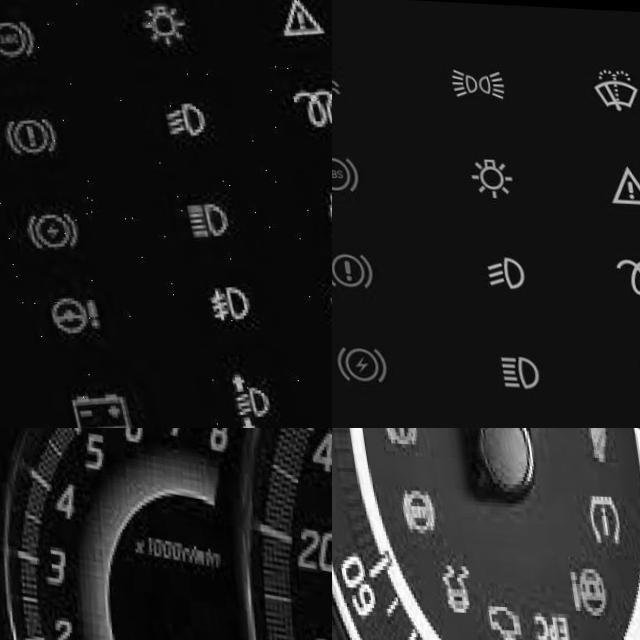Electronic Power Steering: (551, 557, 595, 613), (573, 486, 613, 541)
Electronic Power Steering Warning: (30, 292, 93, 338)
Seat Belt: (572, 428, 605, 458)
